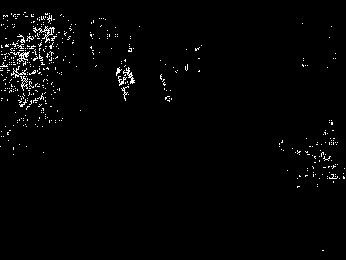person: (115, 57, 136, 103)
